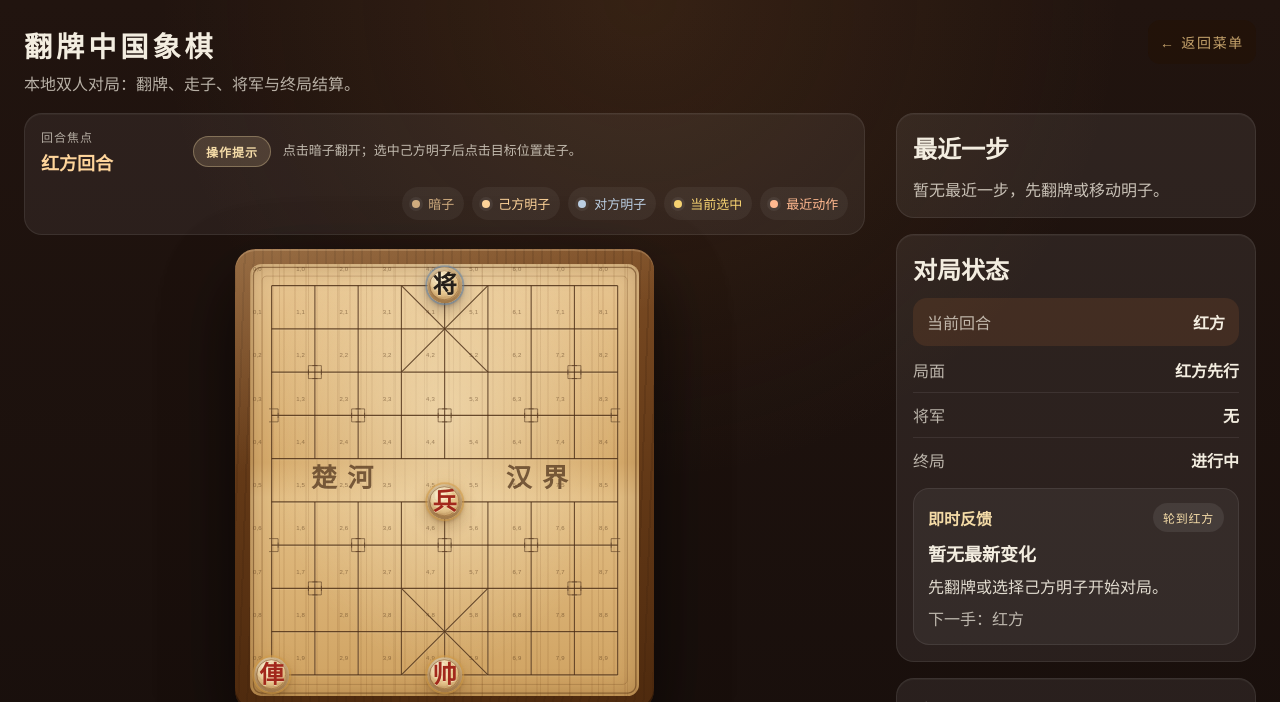
Test: app flow › supports selecting and moving a piece, then restarting the match
Expected: the text "暂无最近一步，先翻牌或移动明子。" is shown, [913,182,1169,199]
What coordinates should you click on to do the following:
click the button with test id "cell-0-9"
I would click on:
 (272, 675)
Its box is [250,653,293,696].
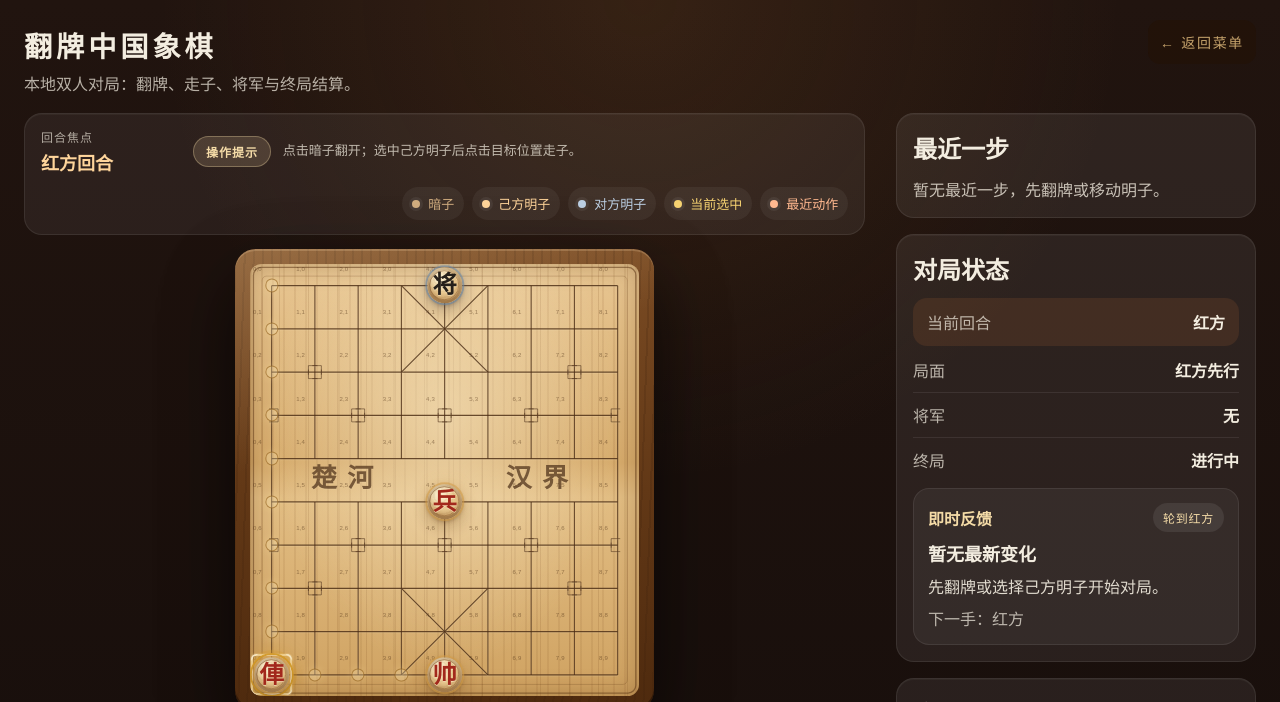
What coordinates should you click on to do the following:
click the button with test id "cell-0-5"
I would click on:
 (272, 502)
Its box is [250,480,293,523].
(page scrolled)
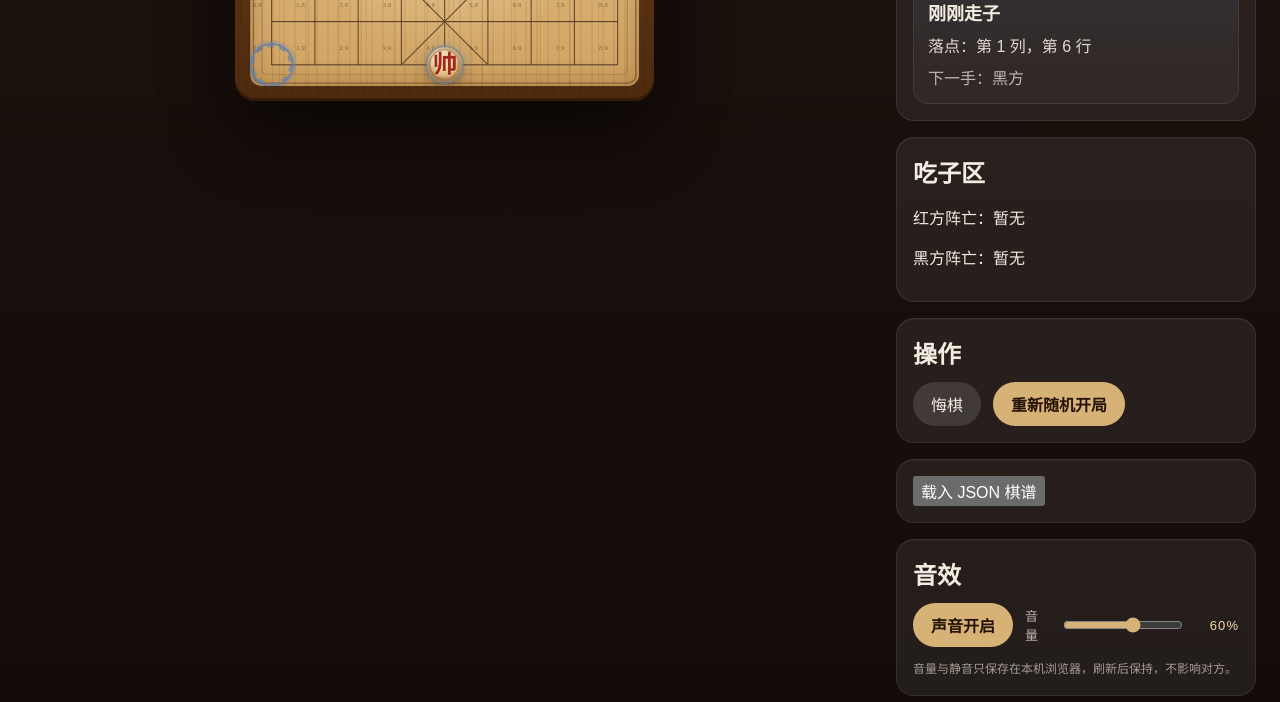
Result: the text "刚刚走子" is shown at [928,4,1000,24]
Result: the text "落点：第 1 列，第 6 行" is shown at [928,38,1092,55]
What coordinates should you click on to do the following:
click the button "重新随机开局"
I would click on:
 (1059, 404)
Its box is [993,382,1125,426].
(page scrolled)
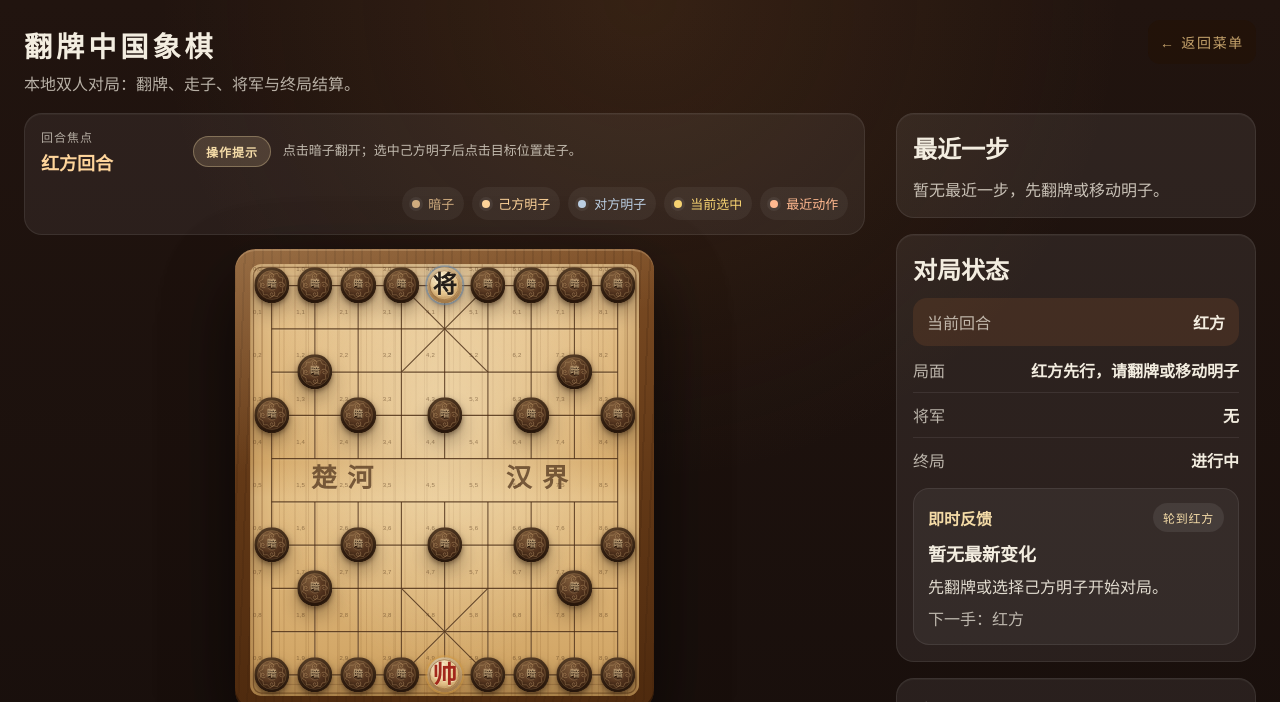
Result: the text "暂无最近一步，先翻牌或移动明子。" is shown at [913,182,1169,199]
Result: the text "红方" is shown at [1193,310,1225,334]
